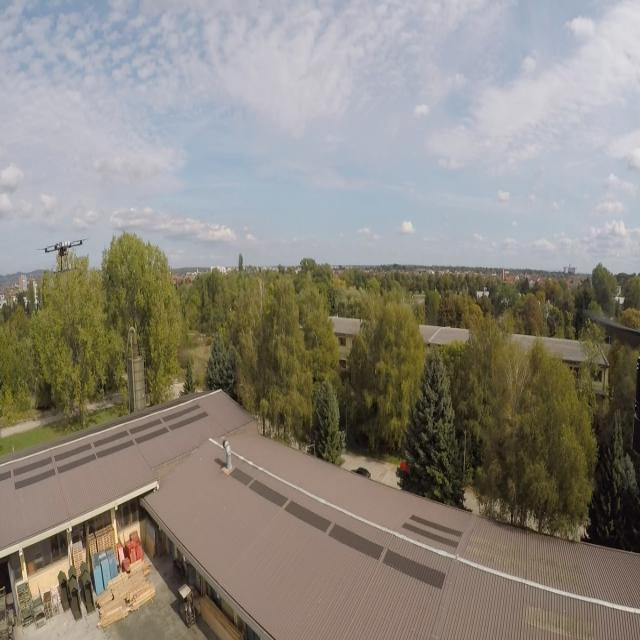UAV: (36, 233, 92, 275)
